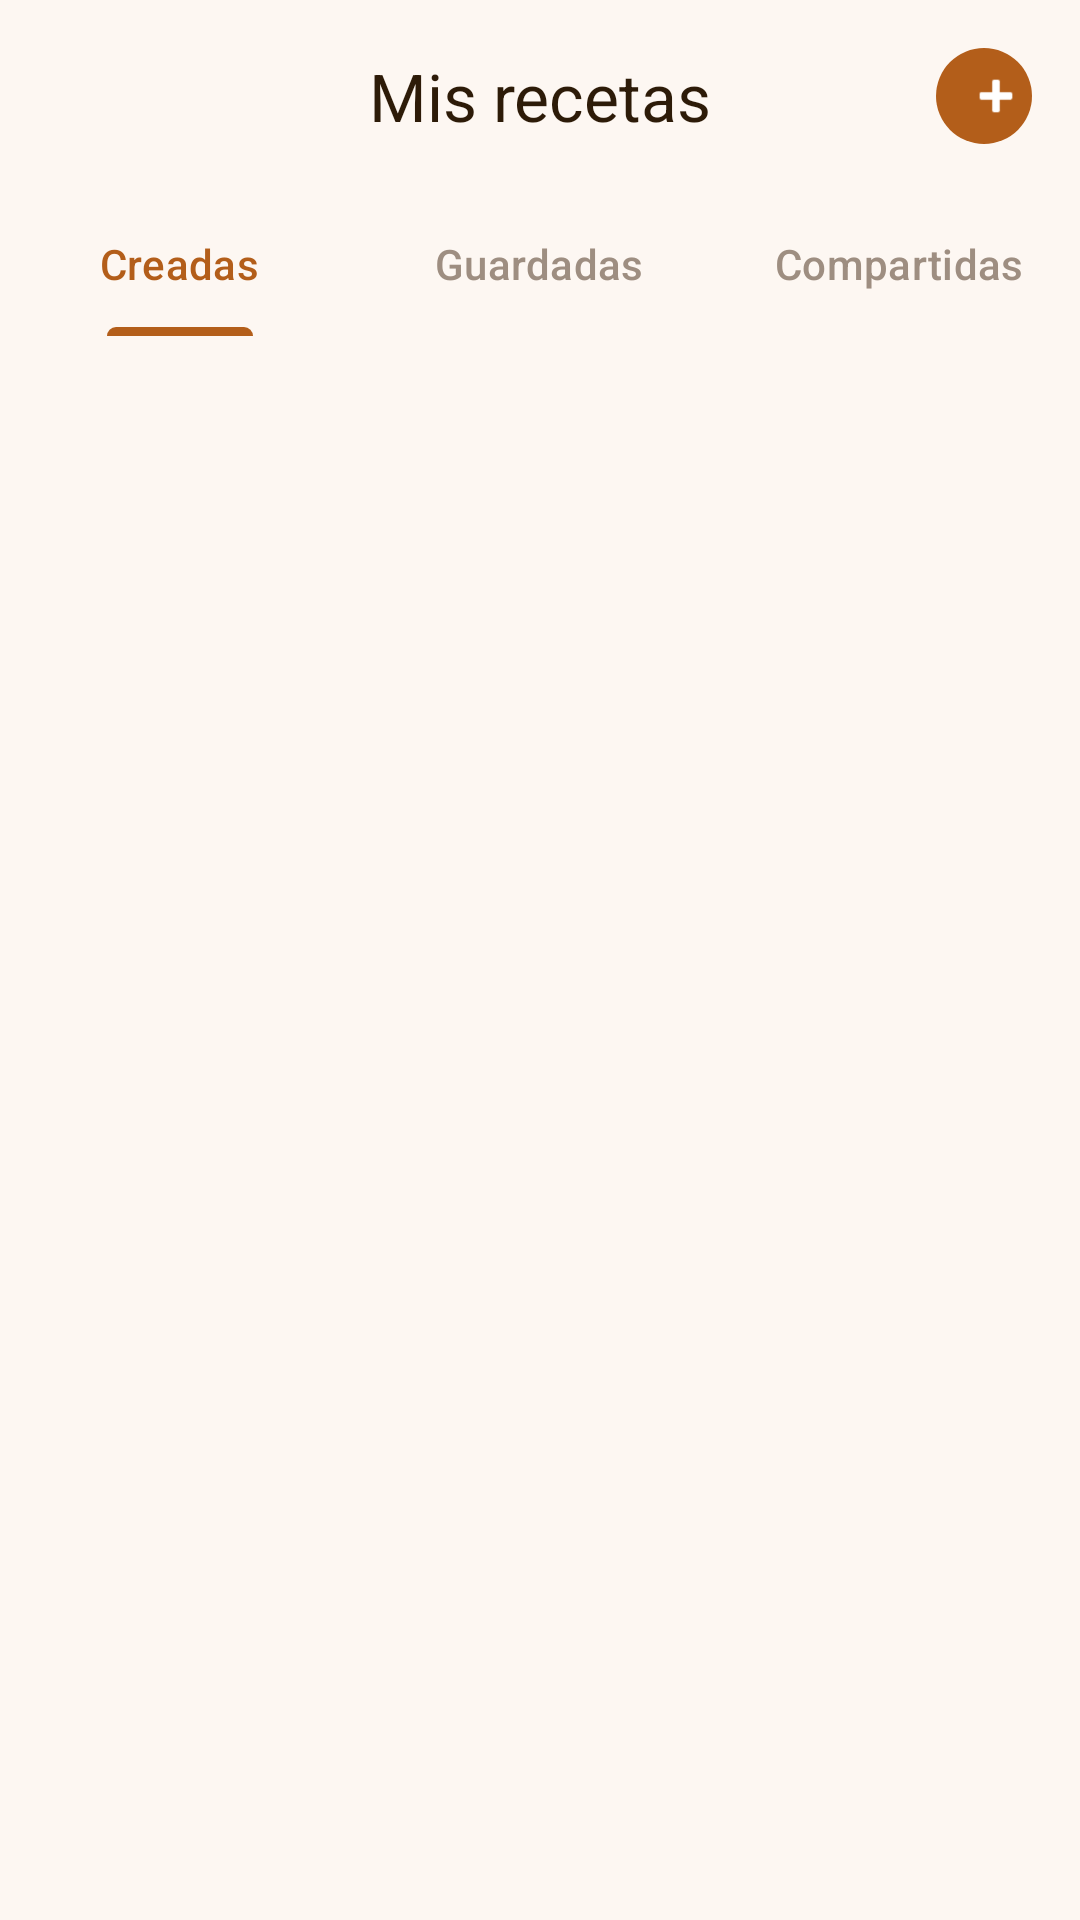

Where icons sit on this 1080 × 1920 app screen, as [x1,y1,x2,y2]:
add: [936,48,1032,144]
